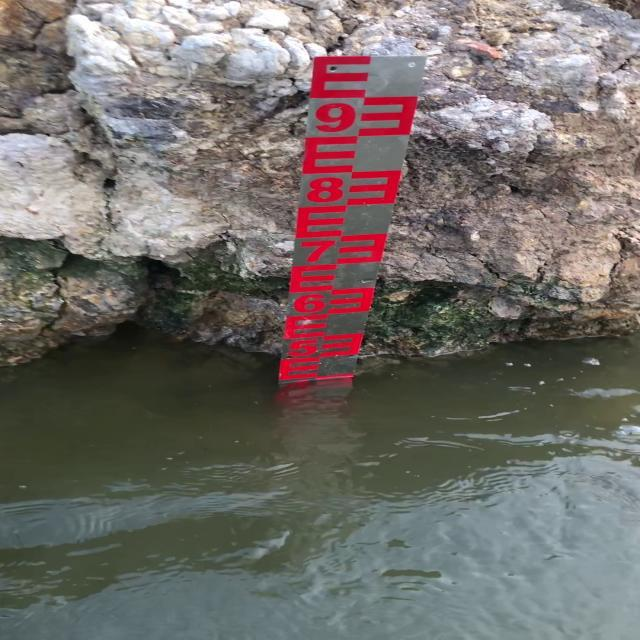ruler: (262, 34, 444, 412)
value: (305, 95, 361, 140), (300, 171, 348, 207), (295, 235, 340, 268), (290, 291, 332, 318), (285, 335, 323, 360)
